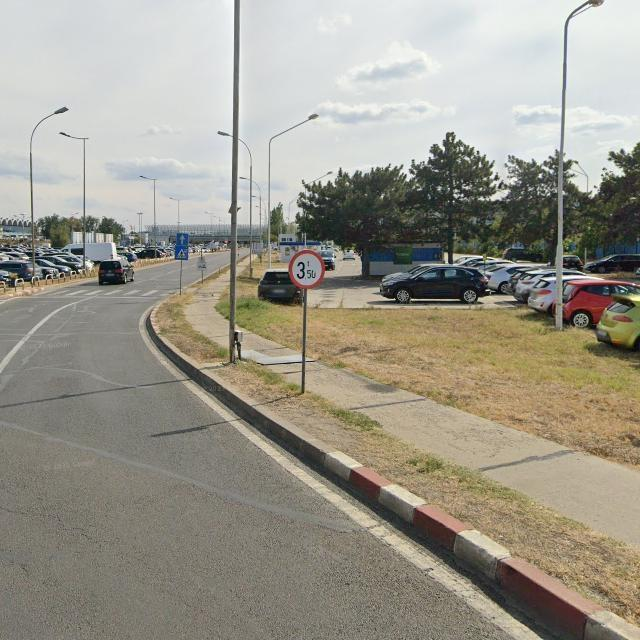info_crosswalk: (175, 246, 188, 260)
